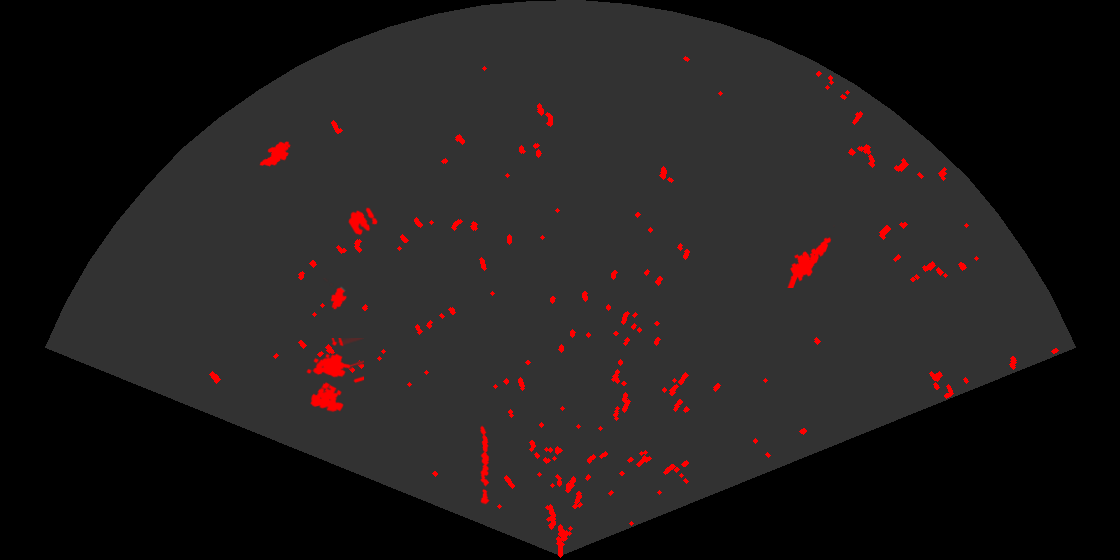AUV: (258, 140, 292, 168), (323, 278, 349, 311)
ball: (347, 206, 379, 237)
cage: (305, 338, 364, 414)
chain: (479, 425, 491, 505)
frogman: (786, 225, 835, 288)
